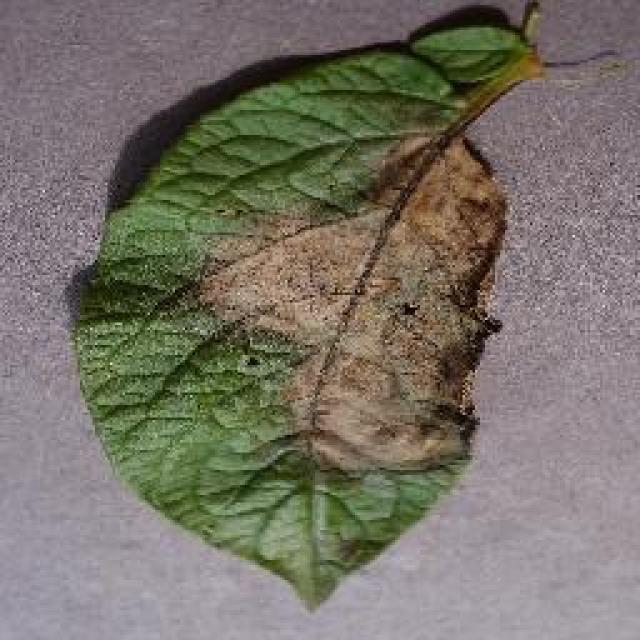Potato___Late_blight: (57, 23, 549, 619)
